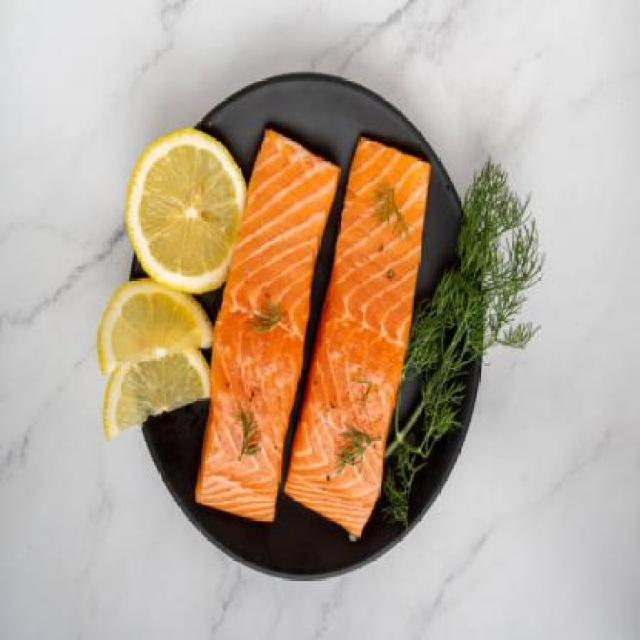salmon: (186, 123, 346, 504), (291, 140, 435, 539)
